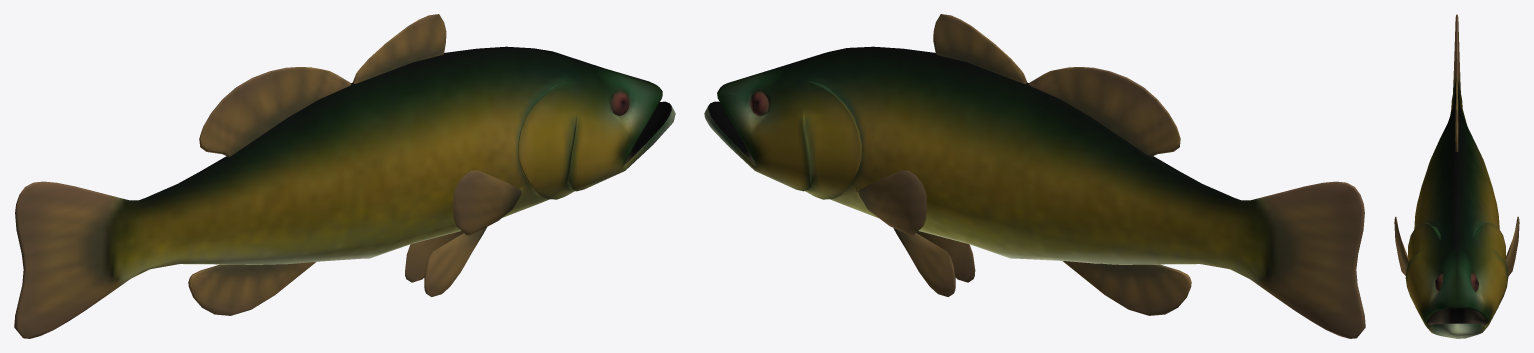
Rendered from ryba_okoun.glb.
3 views of the same model, side by side, from view 1: azimuth 30°, elevation 25°; view 2: azimuth 150°, elevation 25°; view 3: azimuth 270°, elevation 25° (orthographic). The views are drawn at different scales.
Visible parts, largest first — view 1: ryba_okoun; view 2: ryba_okoun; view 3: ryba_okoun.
Part boxes in pixels (x1=…): ryba_okoun: x1=14, y1=14, x2=675, y2=338; ryba_okoun: x1=704, y1=14, x2=1365, y2=338; ryba_okoun: x1=1394, y1=14, x2=1519, y2=338.
Size of the model in its own units: 0.4999 by 0.1976 by 0.103.
1 material, 1 textured.
